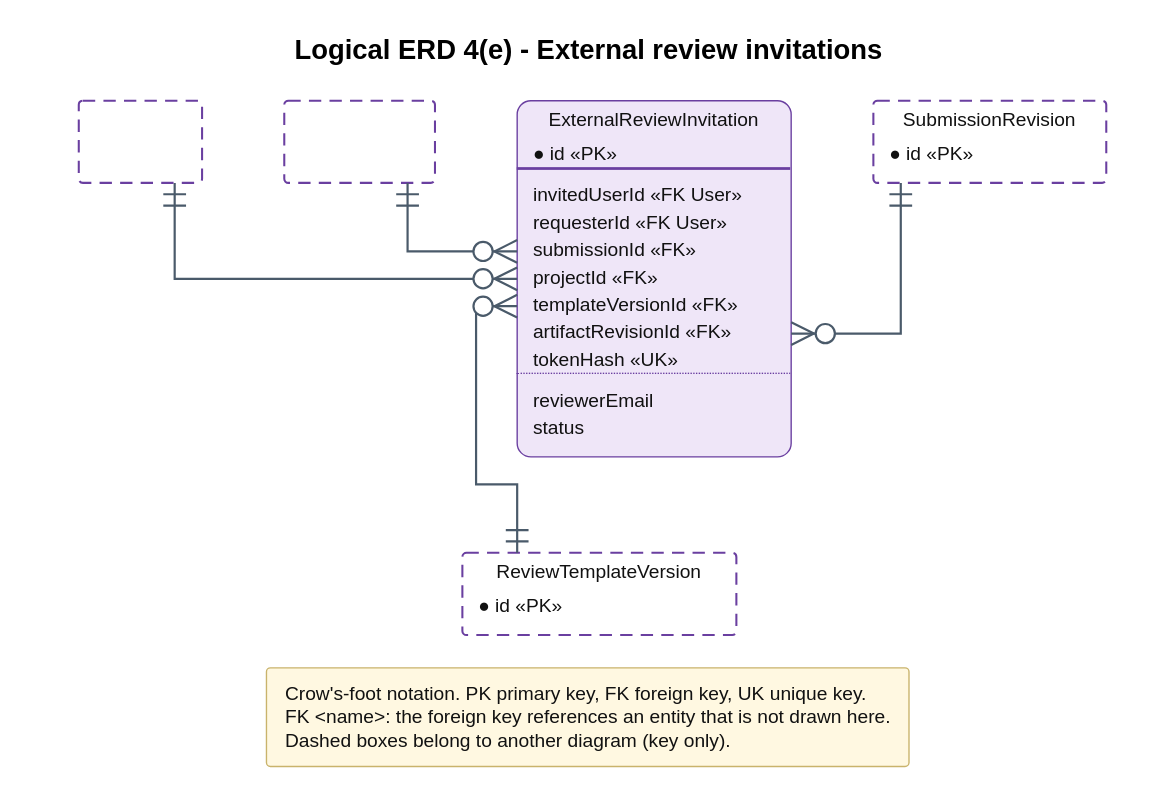
This 1175x790 diagram has some shape labels left out. Here are the shapes that lost their labels. From the top down, the centre of each, then its label:
pixel 139 141: Project ● id «PK»
pixel 359 141: Submission ● id «PK»
